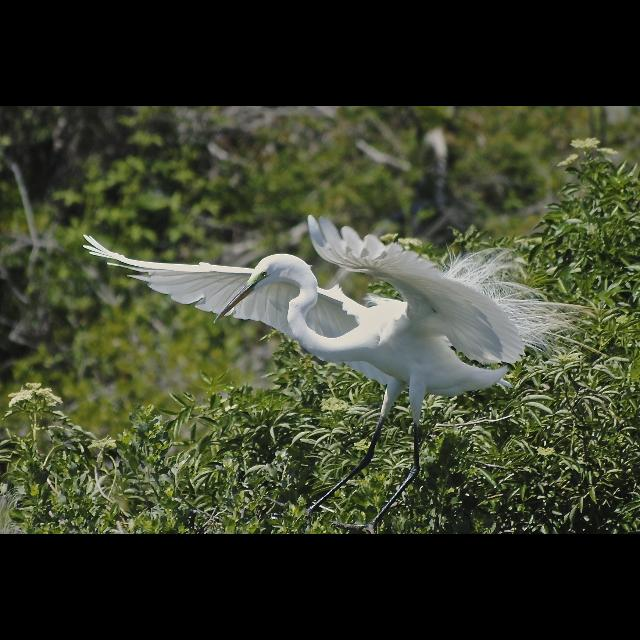egret: (76, 207, 546, 478)
